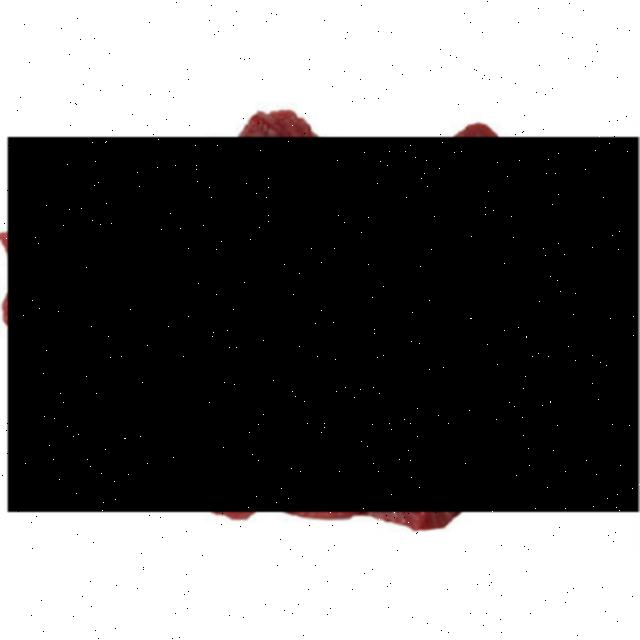Buff_Meat: (7, 137, 640, 512)
